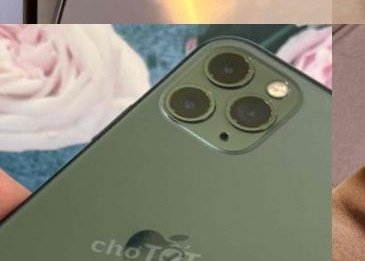scratch: (163, 37, 297, 144)
